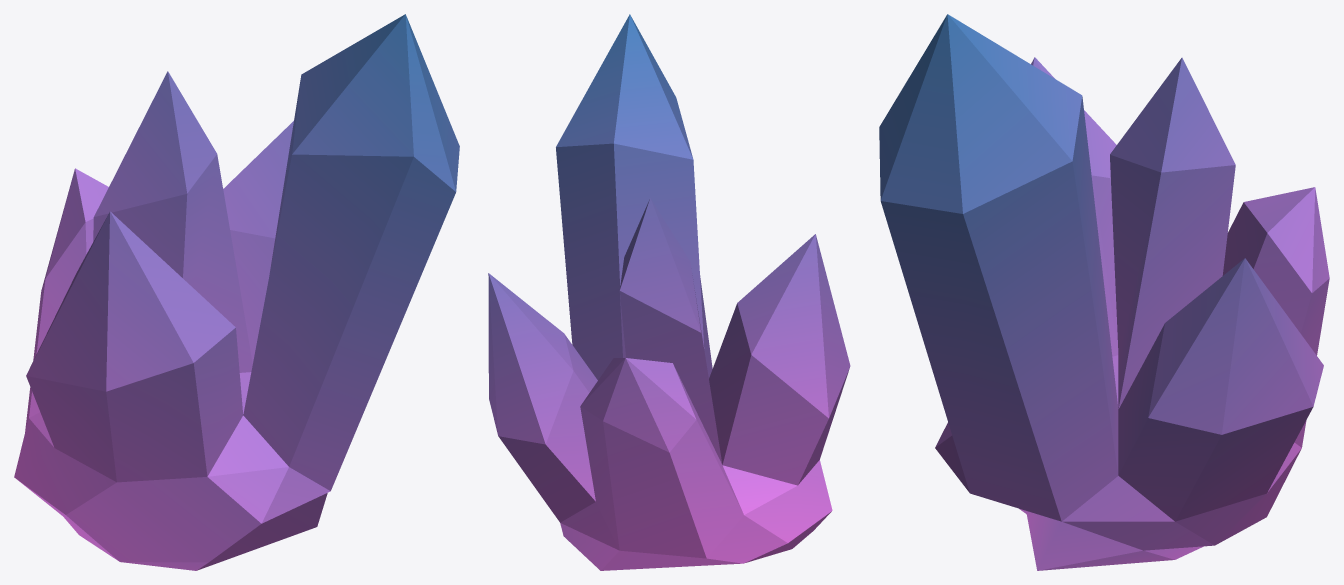
Rendered from StarShards.fbx.
3 renders of one model, left to right at view 1: azimuth 30°, elevation 25°; view 2: azimuth 150°, elevation 25°; view 3: azimuth 270°, elevation 25°, orthographic. The views are drawn at different scales.
Parts seen in each view (by area): view 1: STAR SHARDS.001; view 2: STAR SHARDS.001; view 3: STAR SHARDS.001.
Boxes of the visible parts, left/top/right/bottom form: STAR SHARDS.001: left=14, top=14, right=459, bottom=570; STAR SHARDS.001: left=488, top=14, right=850, bottom=570; STAR SHARDS.001: left=879, top=14, right=1329, bottom=570.
Size of the model in its own units: 148 by 209 by 144.
1 material, 1 textured.
